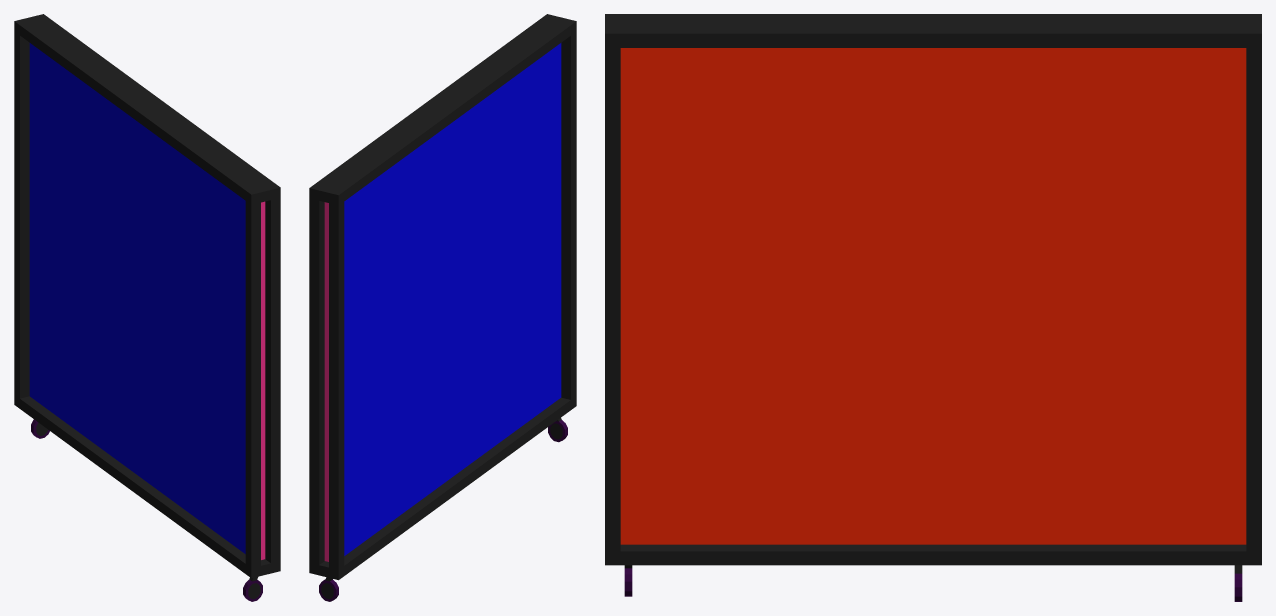
File: Curtains (Fixed V2).fbx
The picture shows the model from 3 angles, left to right: view 1: azimuth 30°, elevation 25°; view 2: azimuth 150°, elevation 25°; view 3: azimuth 270°, elevation 25°; orthographic projection. The views are drawn at different scales.
Visible parts, largest first — view 1: HR0 Curtains0; view 2: HR0 Curtains0; view 3: HR0 Curtains0.
Boxes of the visible parts, x1,y1,x2,y2 form: HR0 Curtains0: (14,14,280,601); HR0 Curtains0: (309,14,576,601); HR0 Curtains0: (605,14,1261,601).
Size of the model in its own units: 6 by 81 by 84.
